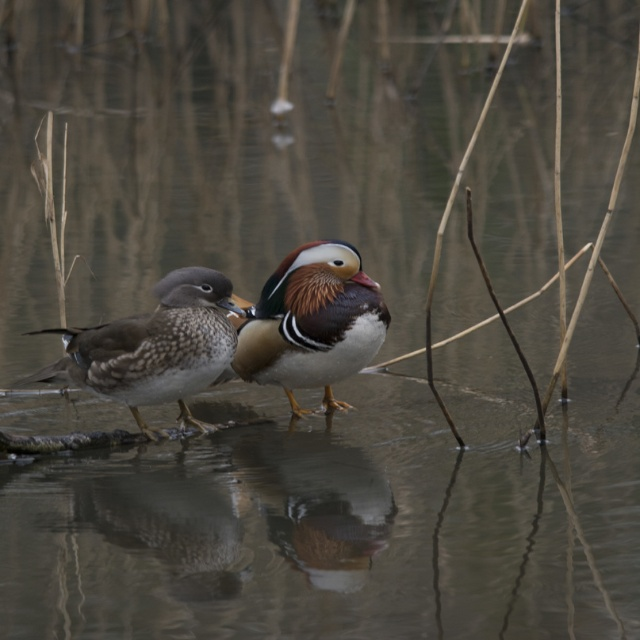Duck: (191, 230, 392, 451), (0, 263, 256, 433)
